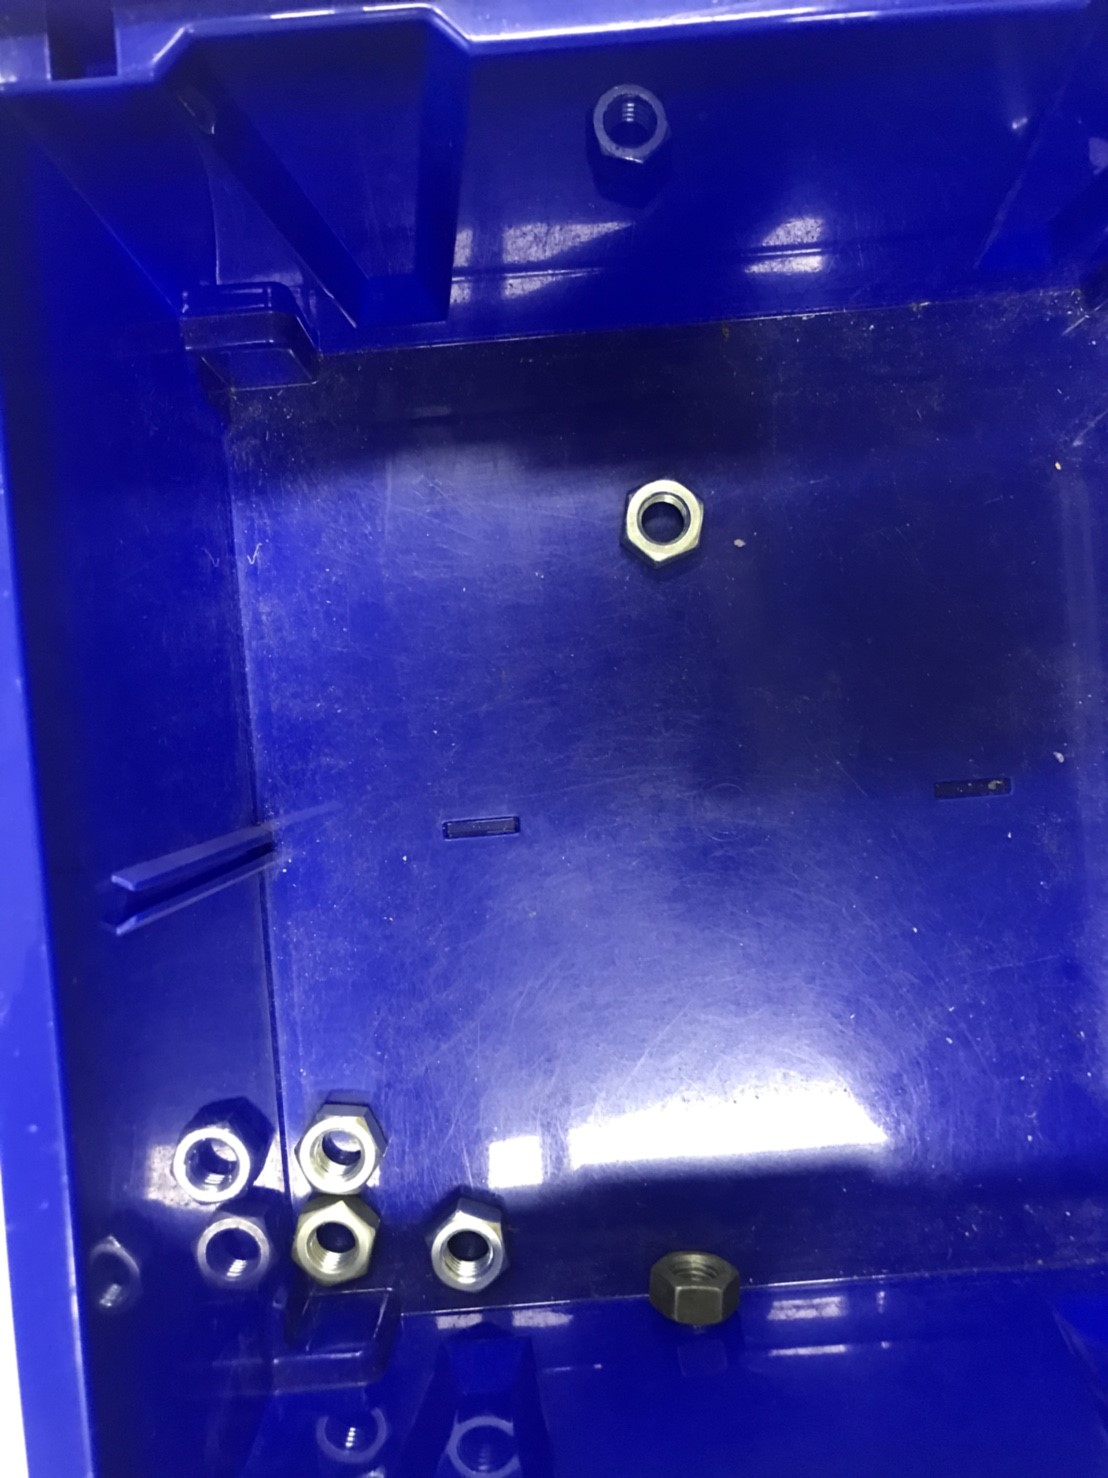nut: (635, 1238, 750, 1333), (164, 1108, 262, 1211), (622, 468, 715, 568), (289, 1198, 390, 1289), (424, 1200, 511, 1300), (294, 1104, 390, 1191), (185, 1227, 279, 1302)
